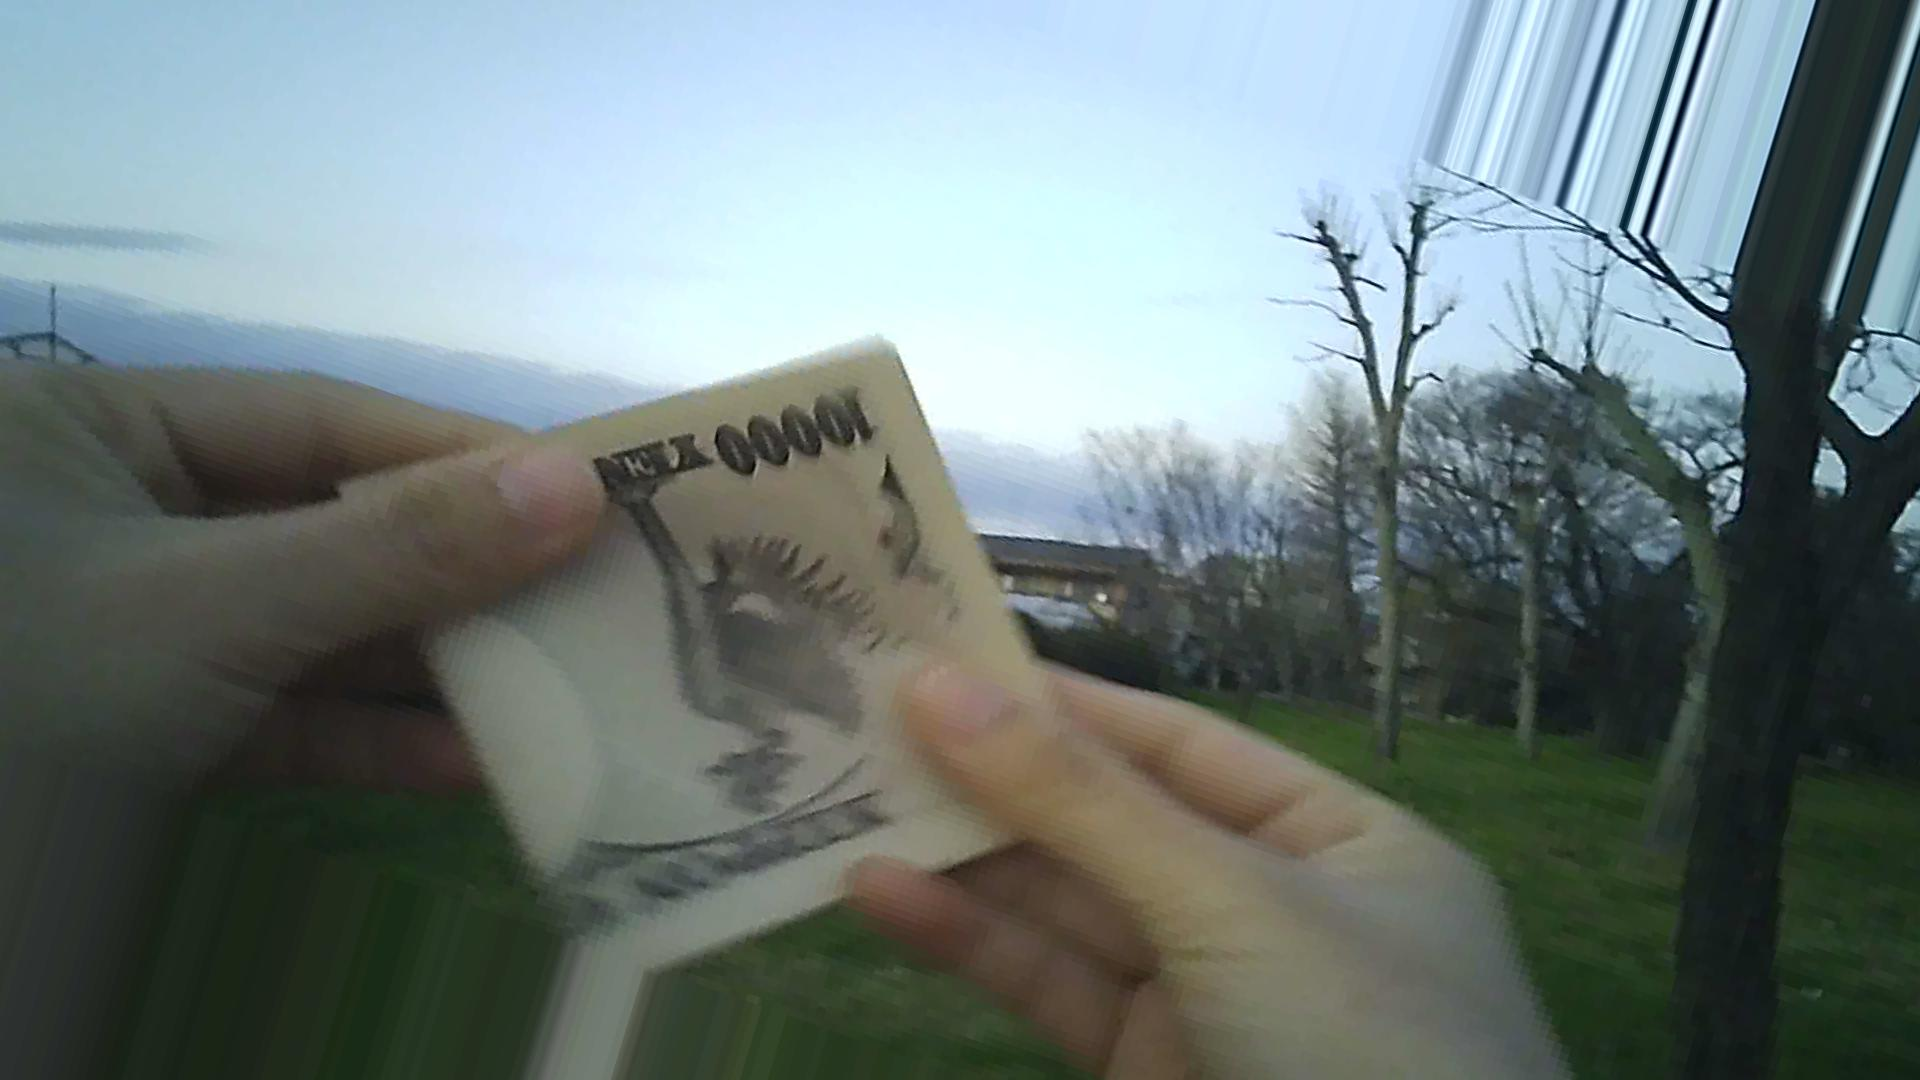10,000 Yen: (342, 353, 1044, 889)
